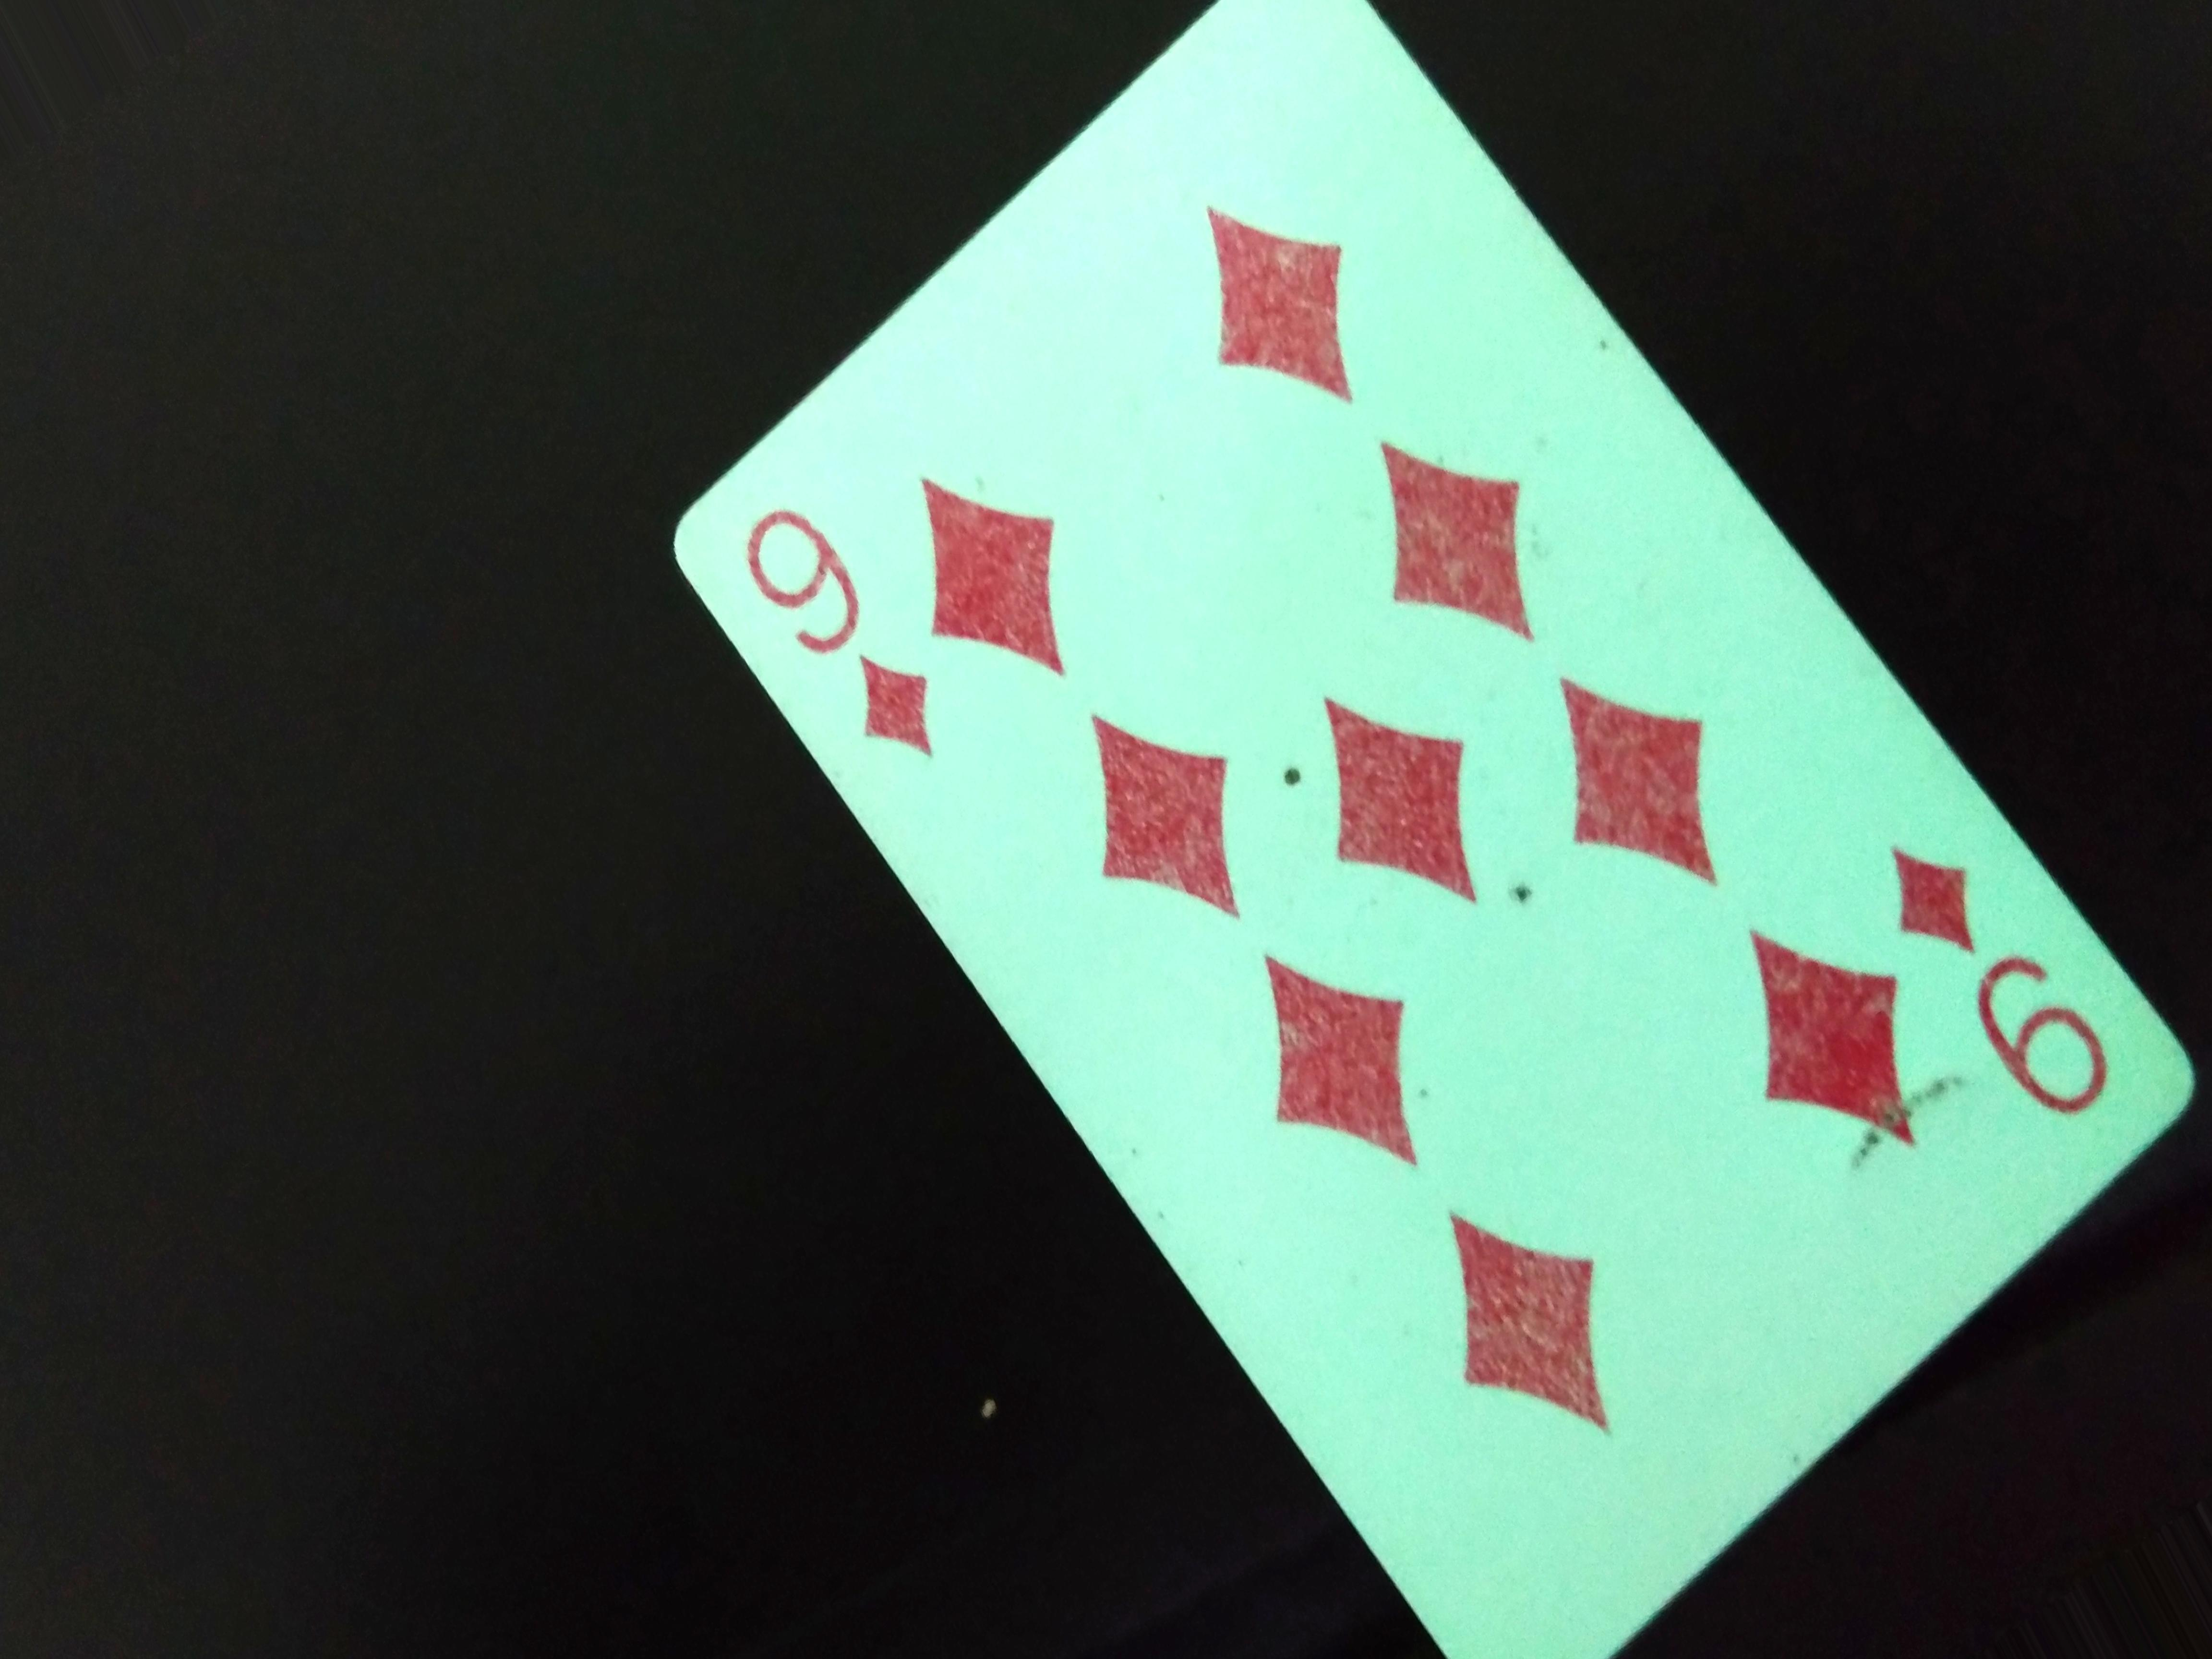9D: (726, 490, 935, 800)
